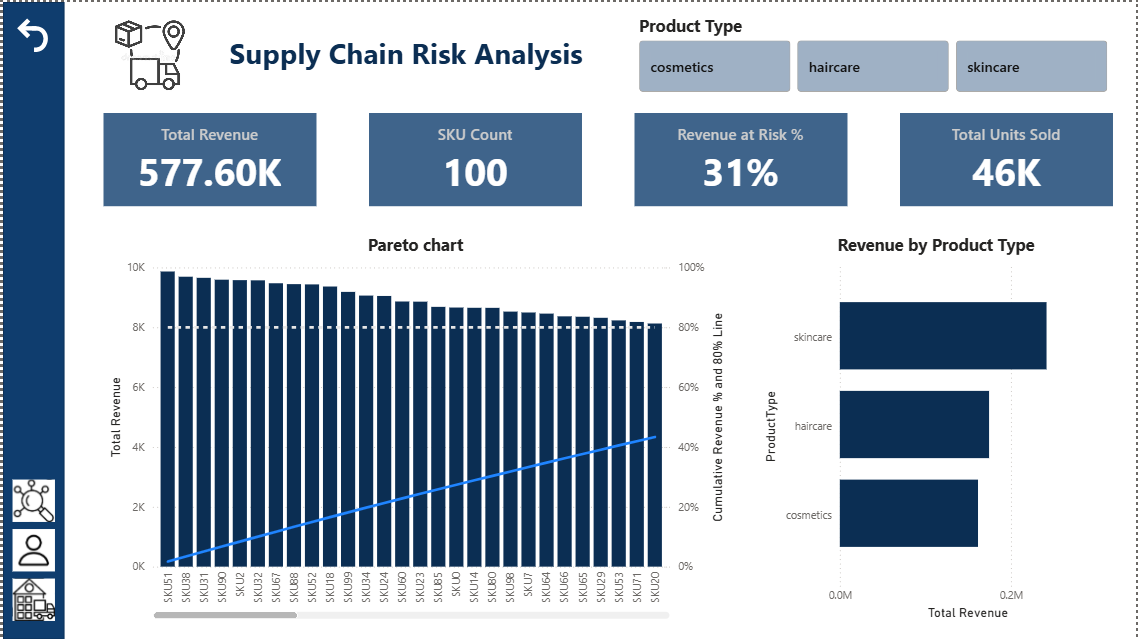

The page's visual inventory and layout, read from the dashboard file:
{"tool":"powerbi","page":{"name":"Overview","canvas":[1280,720],"ordinal":0},"visuals":[{"type":"advancedSlicerVisual","title":"Product Type","fields":{"Values":["DimProduct.ProductType"]},"box":[713.6,13.6,540.7,93.2],"z":0},{"type":"cardVisual","fields":{"Data":["Measures Table.Total Revenue"]},"box":[113.6,125.4,240.7,105.1],"z":0,"group":"g1"},{"type":"actionButton","box":[6.8,647.5,57.6,55.9],"z":0,"group":"g2"},{"type":"cardVisual","fields":{"Data":["Measures Table.SKU Count"]},"box":[413.6,125.4,240.7,105.1],"z":1000,"group":"g1"},{"type":"lineClusteredColumnComboChart","title":"Pareto chart","fields":{"Category":["DimProduct.SKU"],"Y":["Measures Table.Total Revenue"],"Y2":["Measures Table.Cumulative Revenue %","Measures Table.80% Line"]},"box":[113.6,261,705.1,440.7],"z":1000},{"type":"actionButton","box":[6.8,591.5,57.6,55.9],"z":1000,"group":"g2"},{"type":"cardVisual","fields":{"Data":["Measures Table.Total Units Sold"]},"box":[1013.6,125.4,240.7,105.1],"z":2000,"group":"g1"},{"type":"clusteredBarChart","title":"Revenue by Product Type","fields":{"Category":["DimProduct.ProductType"],"Y":["Measures Table.Total Revenue"]},"box":[854.2,261,400,440.7],"z":2000},{"type":"actionButton","box":[6.8,535.6,57.6,55.9],"z":2000,"group":"g2"},{"type":"shape","box":[0,0,69.5,720.3],"z":3000},{"type":"cardVisual","fields":{"Data":["Measures Table.Revenue at Risk %"]},"box":[713.6,125.4,240.7,105.1],"z":3000,"group":"g1"},{"type":"group","id":"g1","title":"Group 1","box":[113.6,125.4,1140.7,105.1],"z":4000},{"type":"actionButton","title":"Reset Button","box":[10.2,13.6,50.8,47.5],"z":5000},{"type":"group","id":"g2","title":"Navigation Buttons","box":[6.8,535.6,57.6,167.8],"z":6000},{"type":"image","box":[81.4,13.6,169.5,93.2],"z":7000},{"type":"textbox","box":[250.8,30.5,433.9,61],"z":8000}]}

Visuals, with their boxes on the page's 1280x720 design canvas (x1, y1, x2, y2). These are canvas units, not pixel positions in the 1138x639 screenshot, which may show the page scaled, cropped or inside an application window:
"Product Type" advancedSlicerVisual: 714/14/1254/107
cardVisual - Measures Table.Total Revenue: 114/125/354/230
actionButton: 7/648/64/703
cardVisual - Measures Table.SKU Count: 414/125/654/230
"Pareto chart" lineClusteredColumnComboChart: 114/261/819/702
actionButton: 7/592/64/647
cardVisual - Measures Table.Total Units Sold: 1014/125/1254/230
"Revenue by Product Type" clusteredBarChart: 854/261/1254/702
actionButton: 7/536/64/592
shape: 0/0/70/720
cardVisual - Measures Table.Revenue at Risk %: 714/125/954/230
"Group 1" group: 114/125/1254/230
"Reset Button" actionButton: 10/14/61/61
"Navigation Buttons" group: 7/536/64/703
image: 81/14/251/107
textbox: 251/30/685/92
